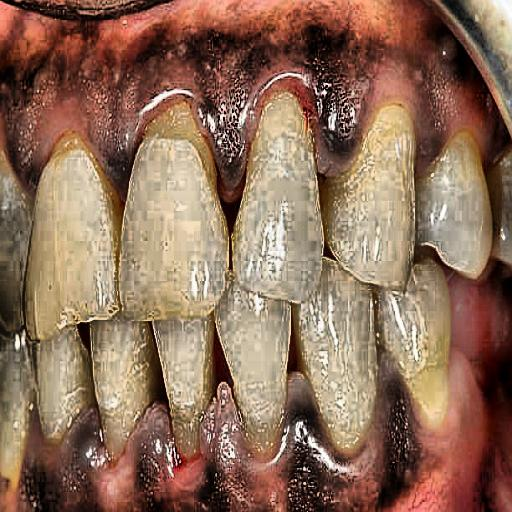Calculus: (24, 80, 498, 260), (38, 334, 502, 457)
